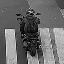motor: (17, 9, 42, 55)
